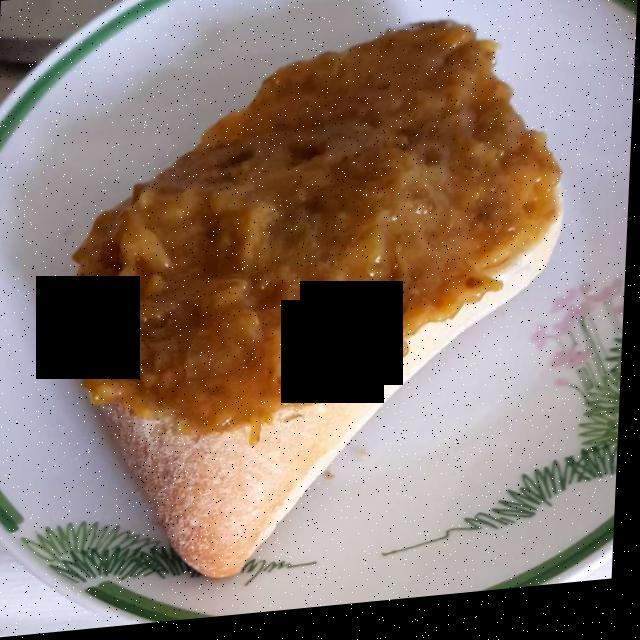bread: (80, 36, 555, 563)
compotes: (96, 45, 540, 430)
